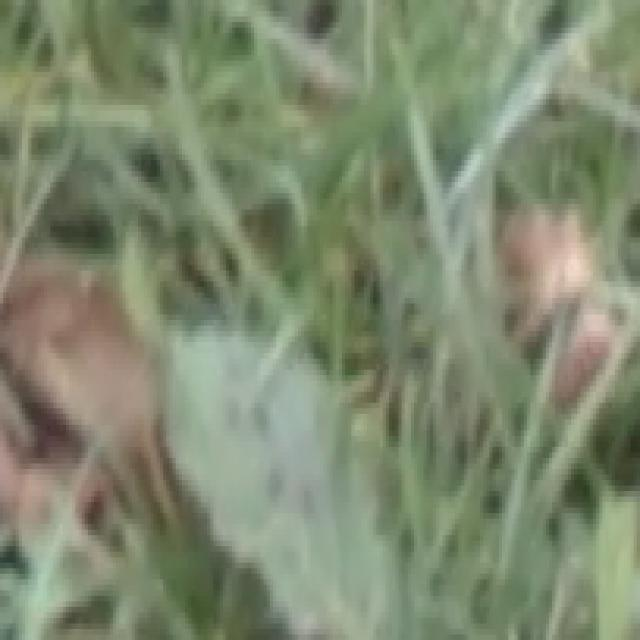organic waste: (104, 254, 574, 640)
